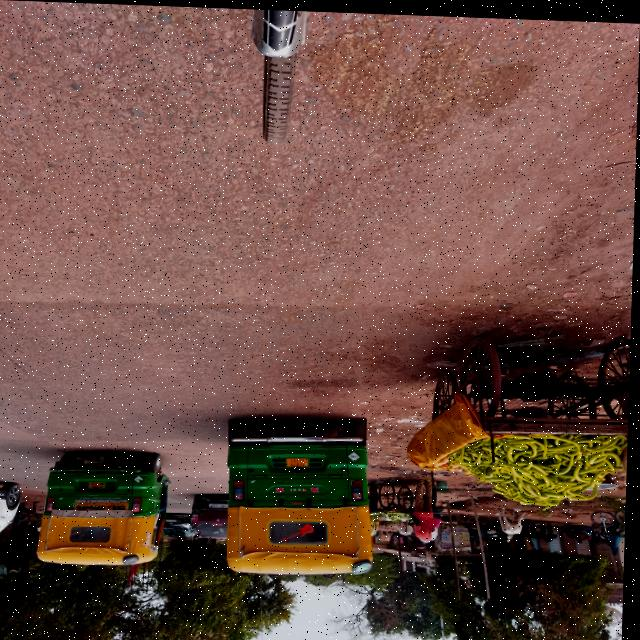plate: (288, 455, 313, 465), (92, 480, 109, 489), (211, 501, 231, 507), (169, 518, 180, 521)
